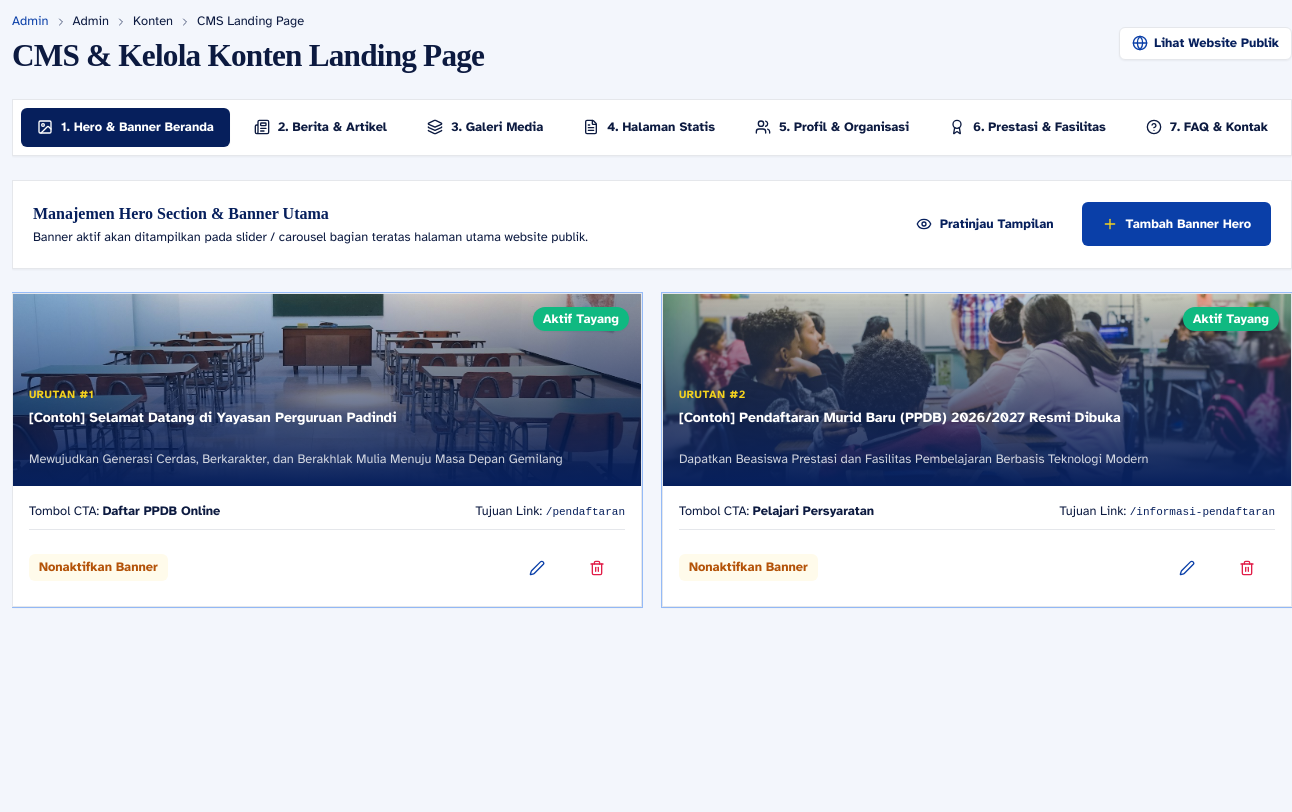
it: CmsPage — Manajemen Konten Landing Page › dapat mengelola halaman statis melalui tab 4. Halaman Statis
Click the button "4. Halaman Statis" at (649, 127), box top-left (567, 108), bottom-right (731, 147)
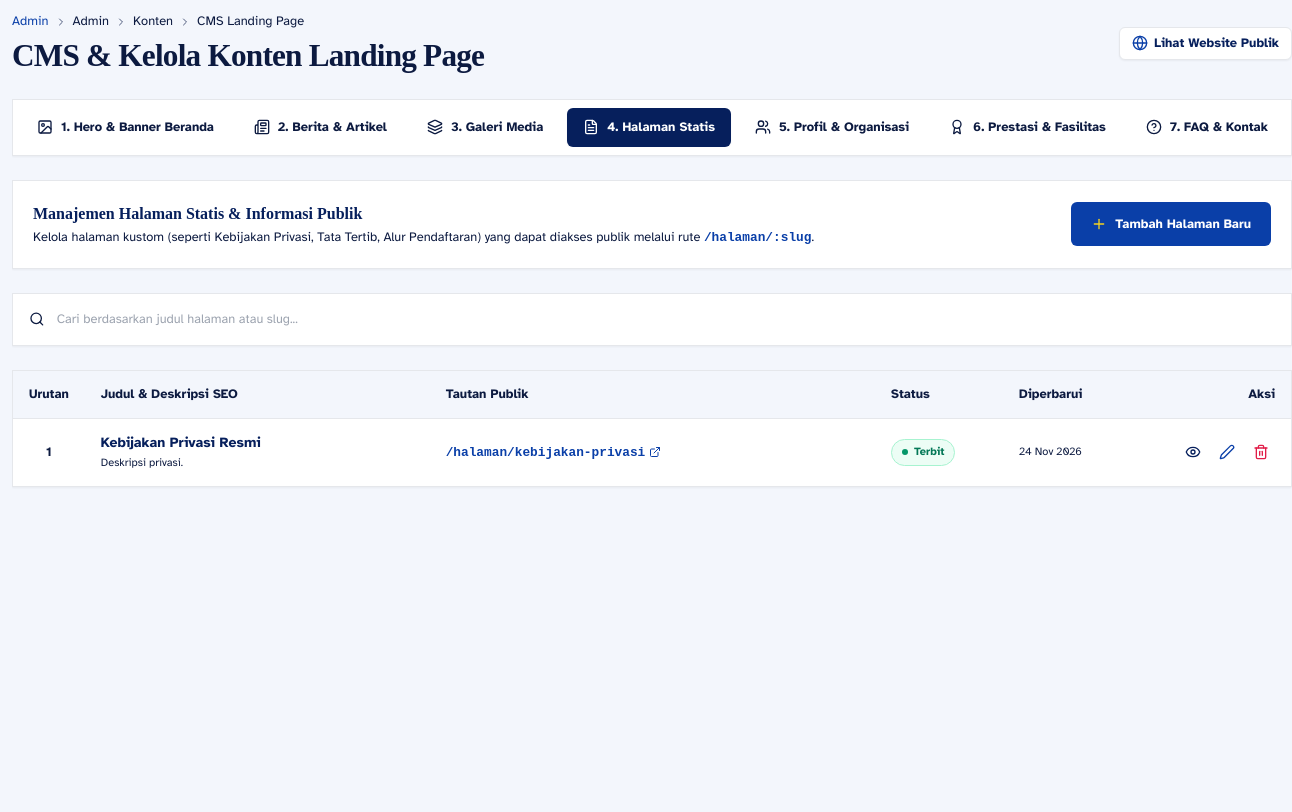
Expected: the heading "Manajemen Halaman Statis & Informasi Publik" is shown, top-left (33, 205), bottom-right (362, 222)
Expected: the text "Kebijakan Privasi Resmi" is shown, top-left (101, 434), bottom-right (261, 451)
Expected: the text "/halaman/kebijakan-privasi" is shown, top-left (446, 443), bottom-right (645, 462)
Note: Membuka modal tambah halaman
Click the button "Tambah Halaman Baru" at (1171, 224), box top-left (1071, 202), bottom-right (1271, 246)
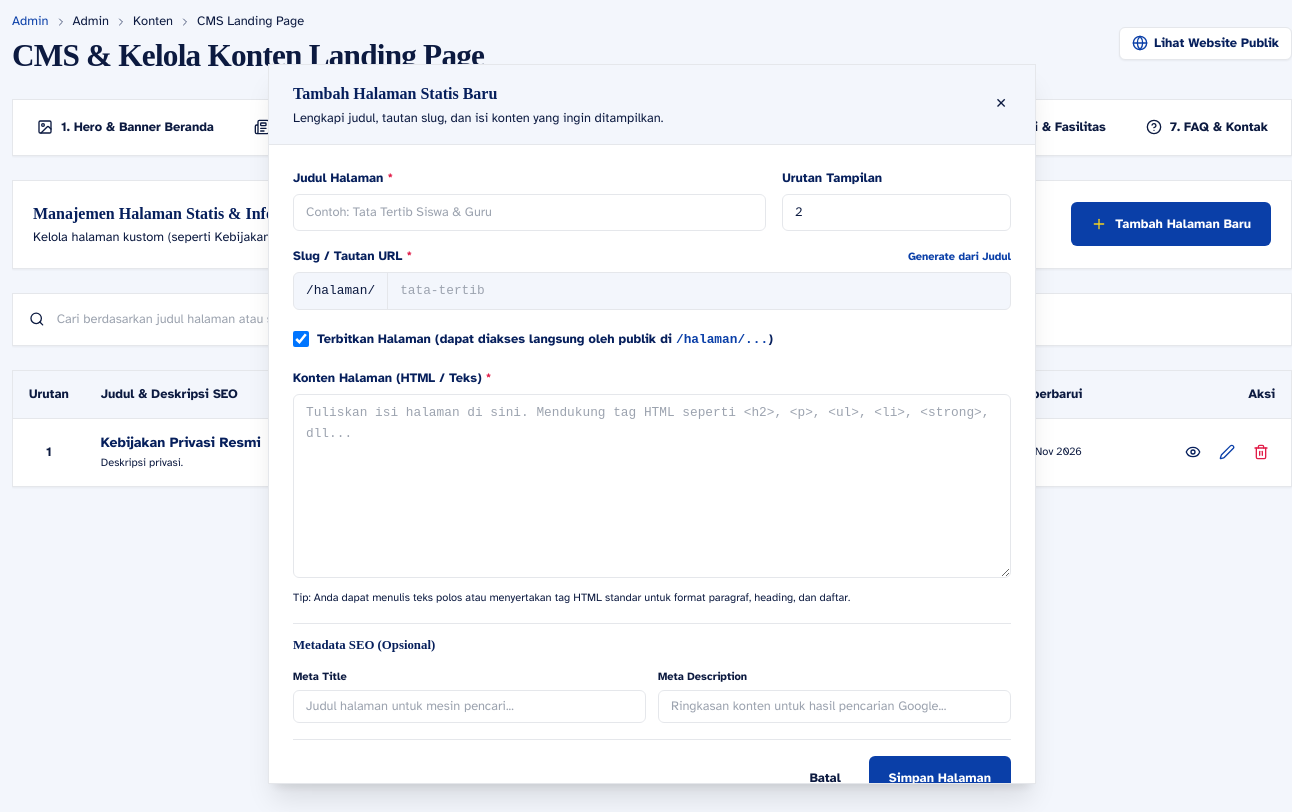
Expected: the heading "Tambah Halaman Statis Baru" is shown, top-left (293, 85), bottom-right (497, 102)
Expected: the field with placeholder "Contoh: Tata Tertib Siswa & Guru" is shown, top-left (293, 194), bottom-right (766, 231)
Expected: the button "Generate dari Judul" is shown, top-left (908, 248), bottom-right (1011, 265)
